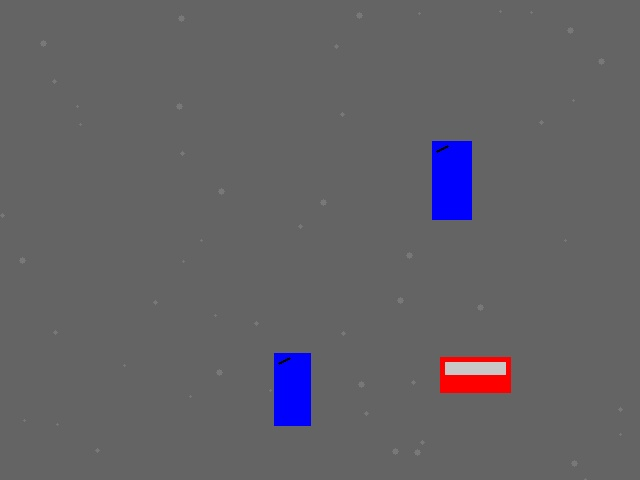car: (440, 357, 510, 392)
motorcycle: (432, 141, 471, 219), (274, 353, 310, 425)
